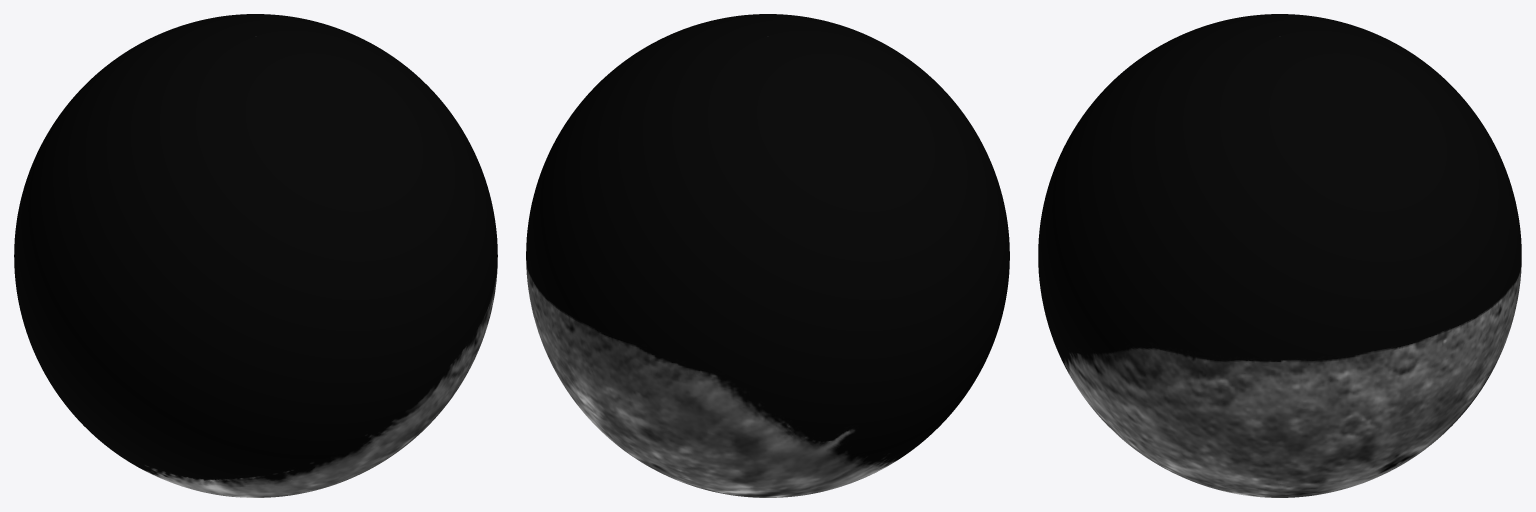
The model's file is oberon.glb.
3 views of the same model, side by side, from view 1: azimuth 30°, elevation 25°; view 2: azimuth 150°, elevation 25°; view 3: azimuth 270°, elevation 25° (orthographic).
Visible parts, largest first — view 1: Oberon_Asset; view 2: Oberon_Asset; view 3: Oberon_Asset.
Boxes of the visible parts, left/top/right/bottom form: Oberon_Asset: left=14, top=14, right=497, bottom=497; Oberon_Asset: left=526, top=14, right=1009, bottom=497; Oberon_Asset: left=1038, top=14, right=1521, bottom=497.
Bounding box in the file's own units: 0.3994 × 0.4 × 0.3994.
1 material, 1 textured.
